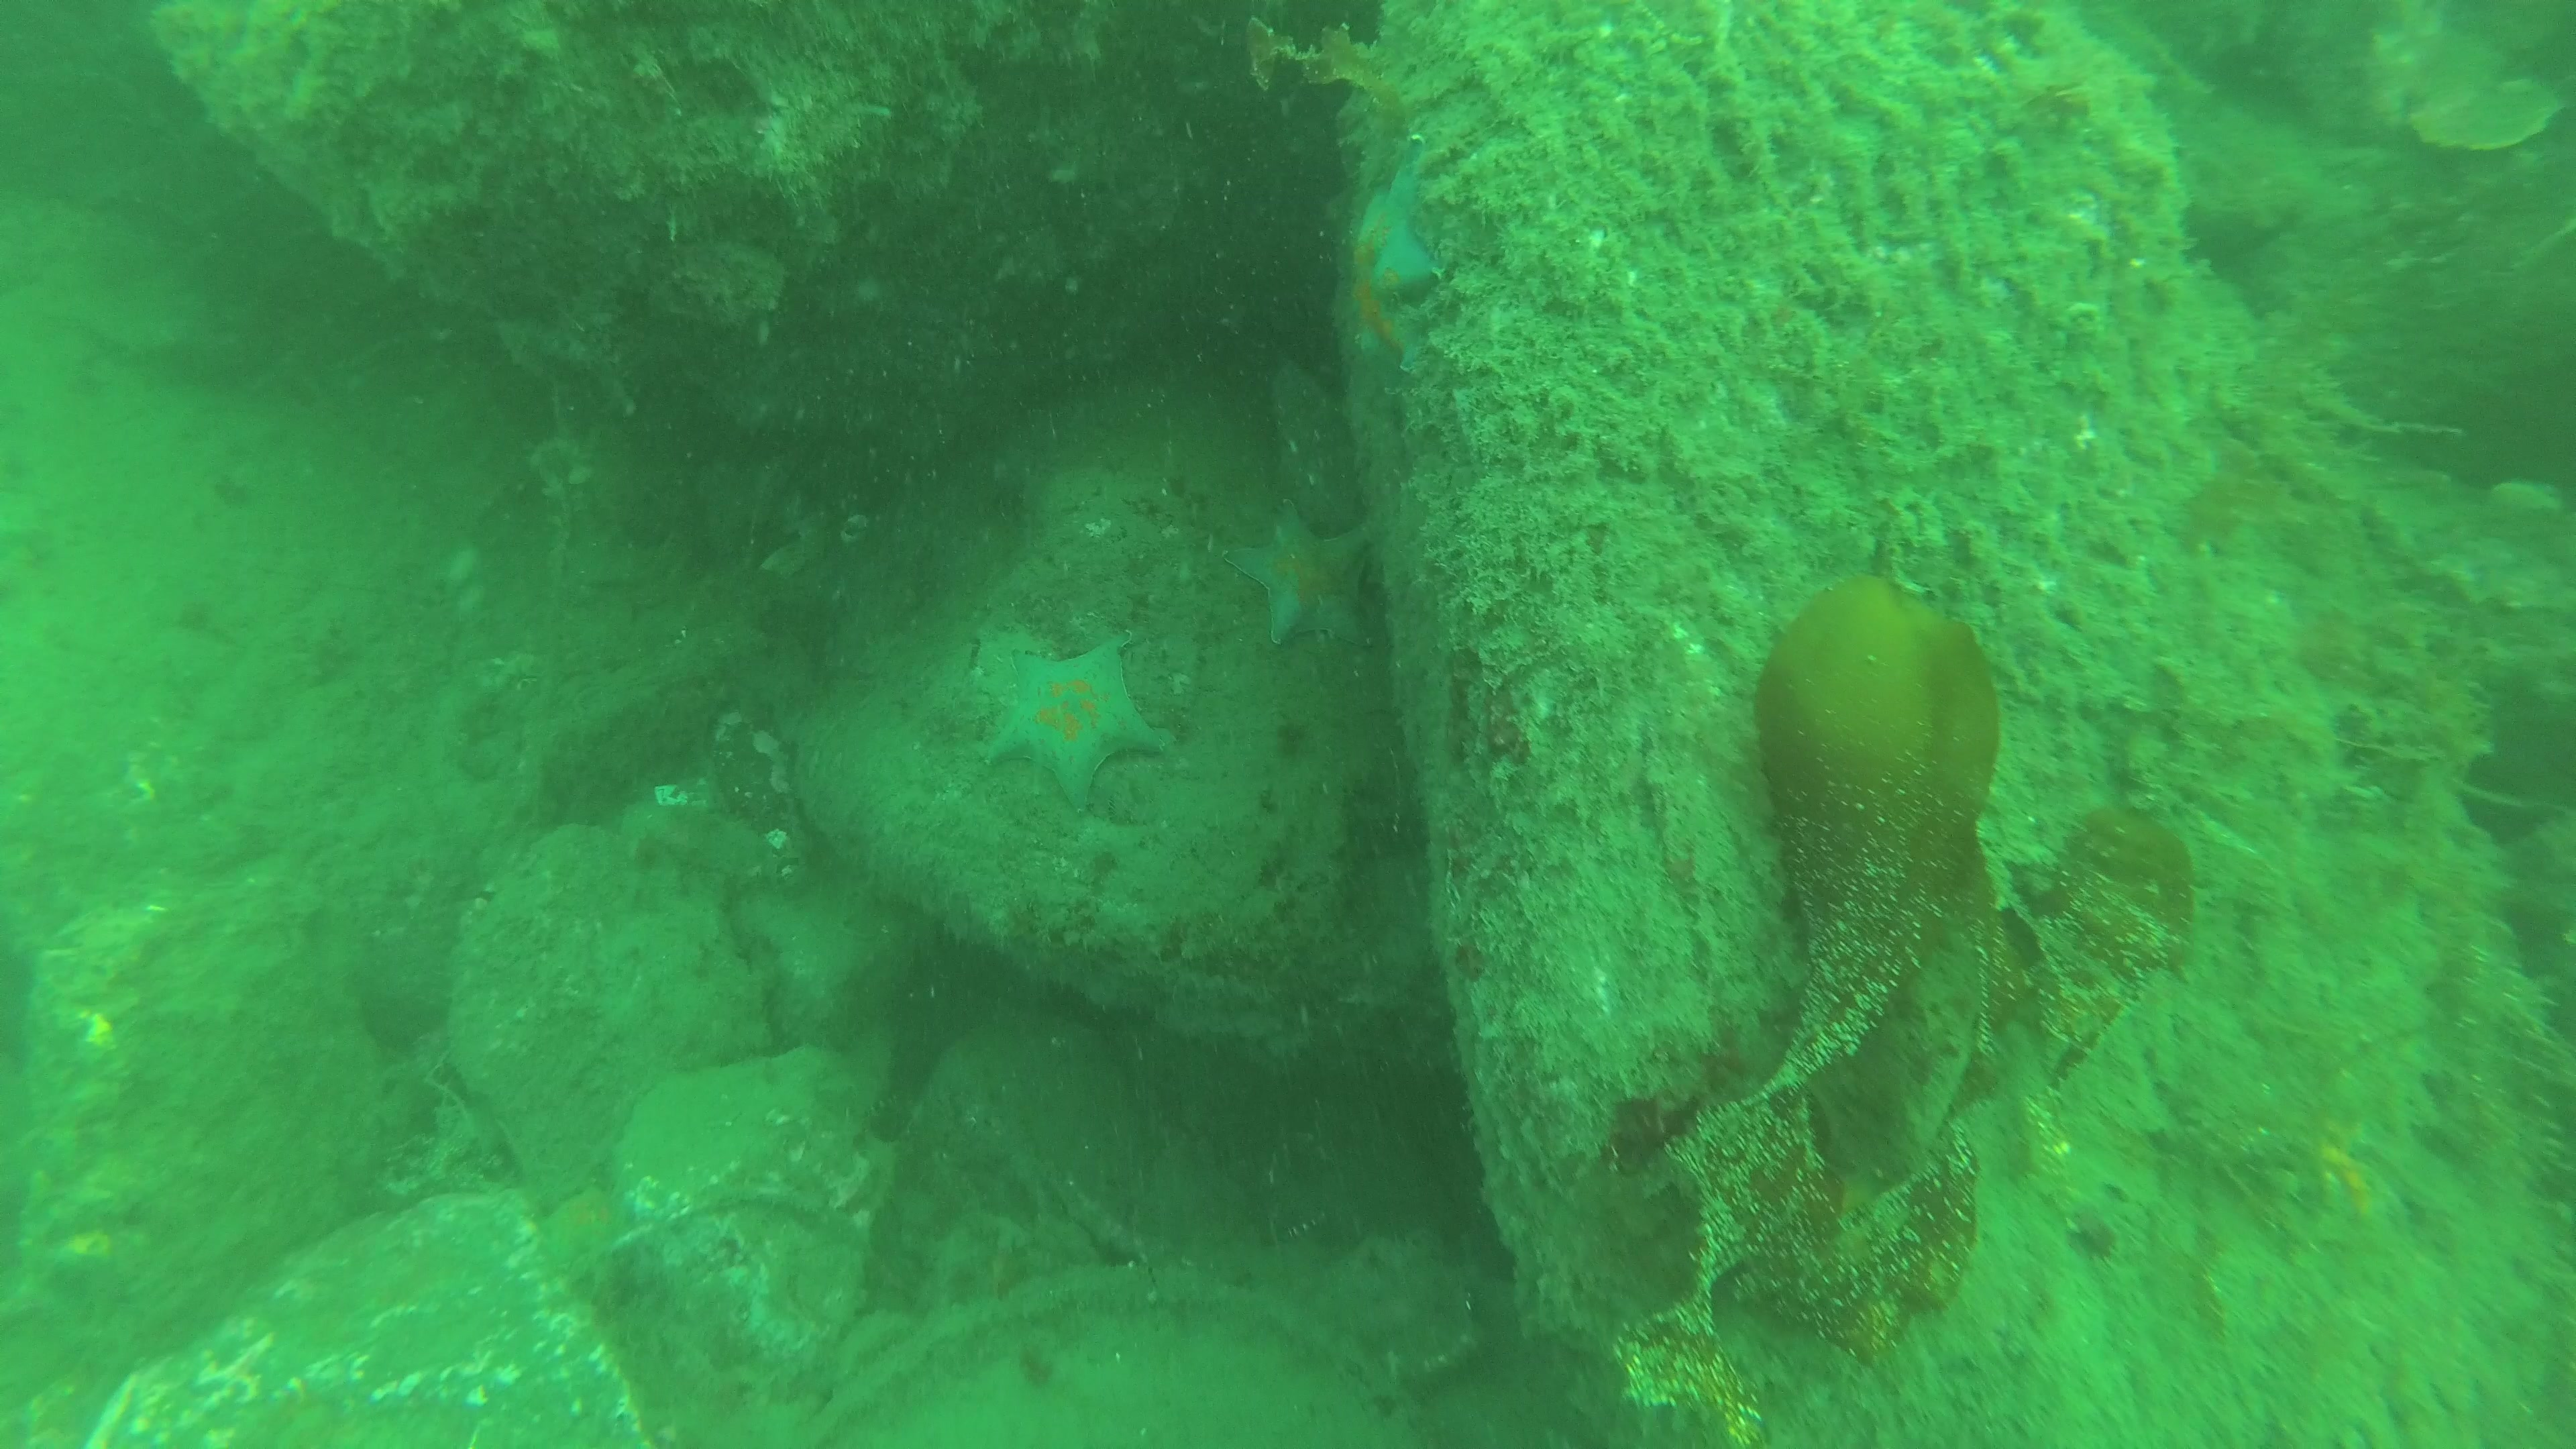starfish: (984, 640, 1171, 814), (1336, 134, 1454, 380), (1228, 499, 1391, 651)
